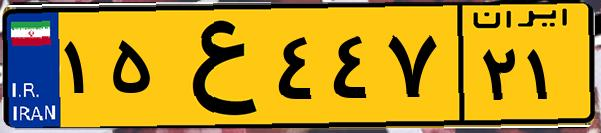1: (57, 26, 110, 100), (525, 38, 570, 115)
2: (475, 38, 525, 113)
4: (270, 28, 330, 110), (330, 28, 385, 110)
5: (110, 28, 158, 98)
7: (385, 28, 445, 110)
ع: (158, 12, 270, 120)
